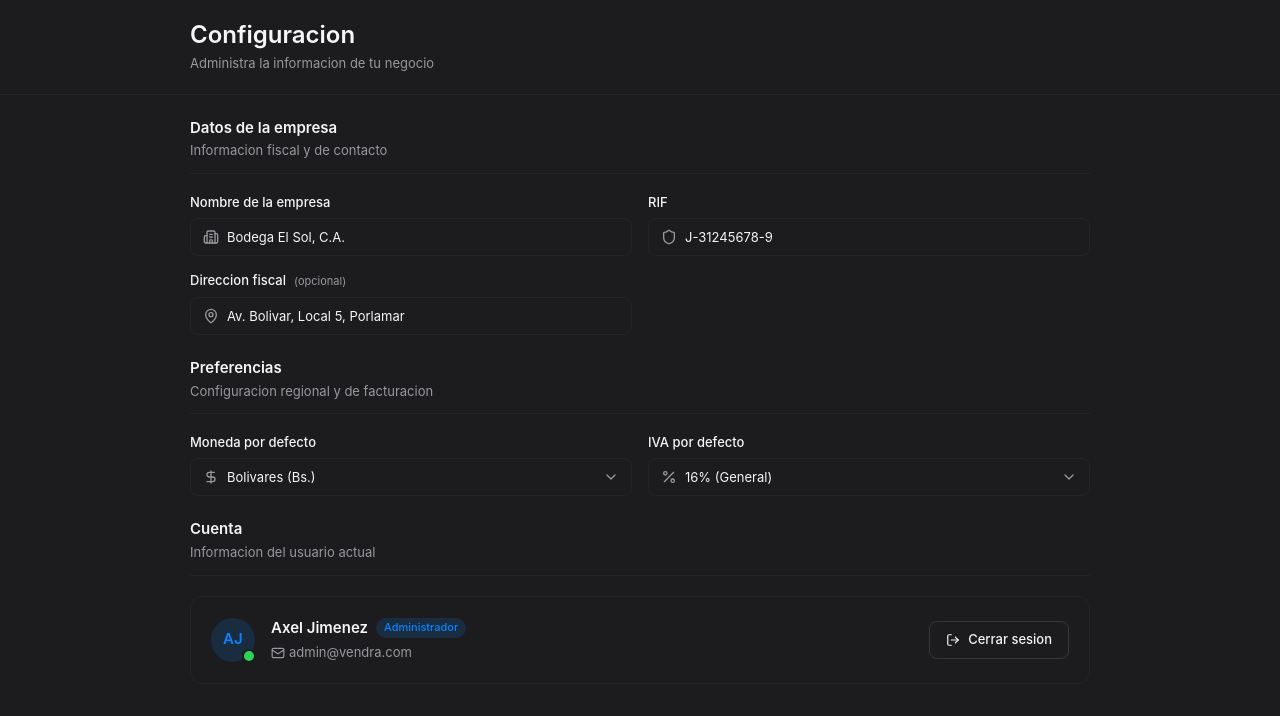
Settings › enables save button when a field changes
The width and height of the screenshot is (1280, 716).
Replace the text in the field labelled "Nombre de la empresa" with "Otra Empresa" at (423,237), box [227,219,619,255]
(page scrolled)
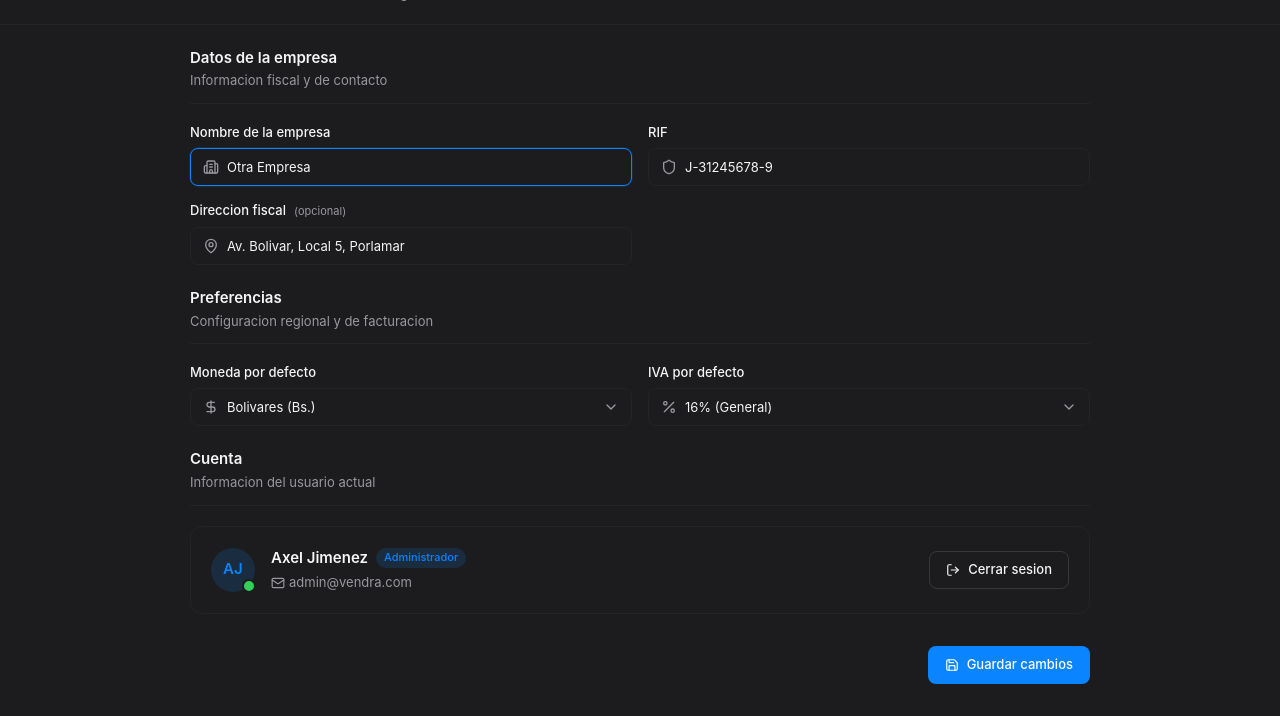
Expected: the button "Guardar cambios" is enabled, [928,646,1090,684]
